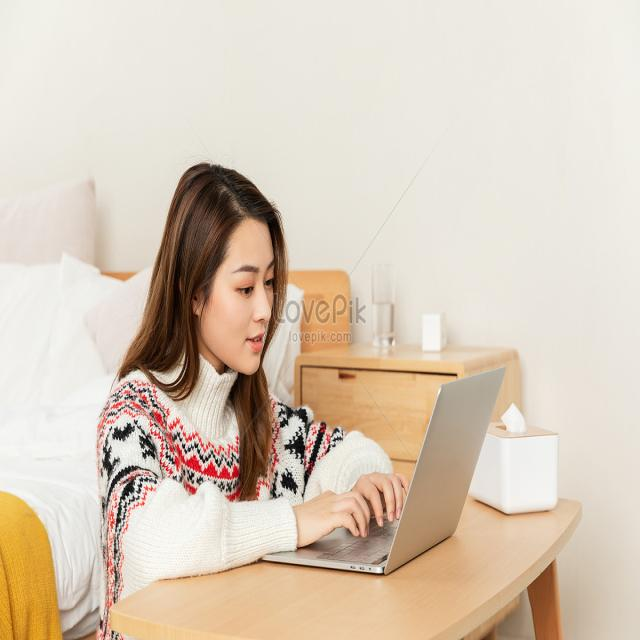notebook-person: (87, 144, 507, 640)
